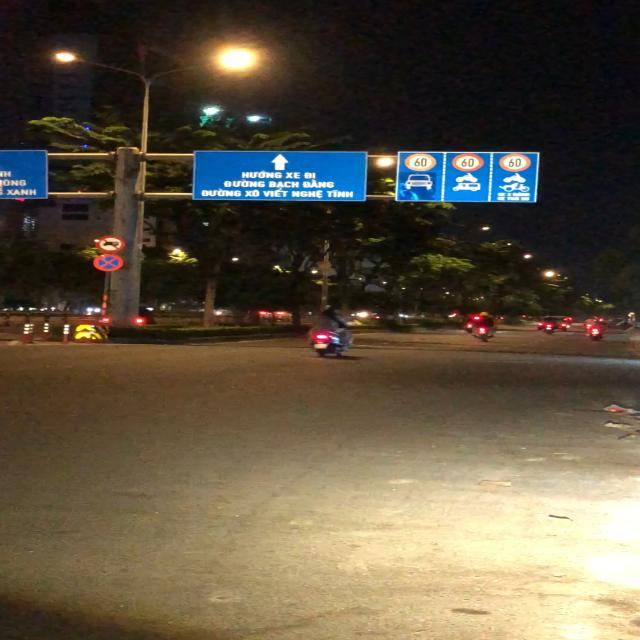Bien bao cam dung xe va do xe: (90, 254, 126, 272)
Bien bao cam xe oto tai: (94, 233, 125, 253)
Bien bao toc do toi da cho phep: (402, 152, 438, 173), (450, 152, 486, 172), (497, 153, 531, 173)
